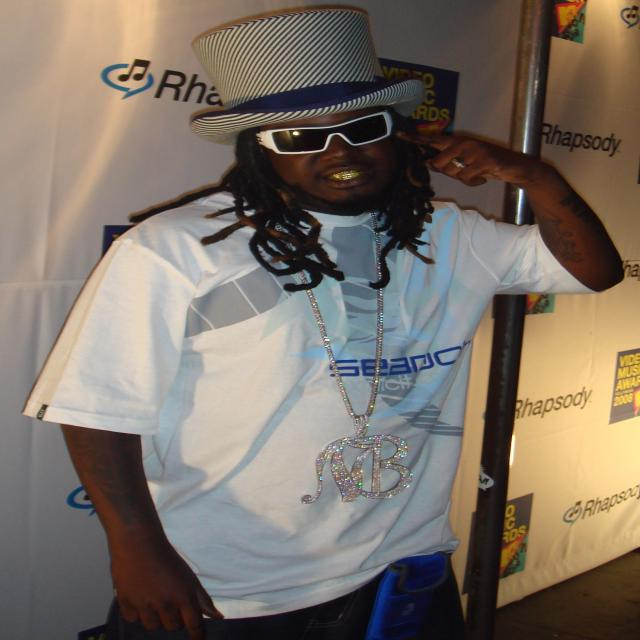hat: (190, 6, 438, 206)
